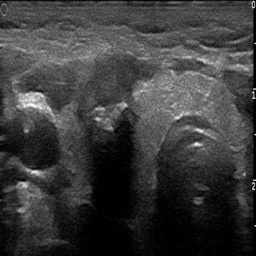mass: (79, 55, 137, 141)
